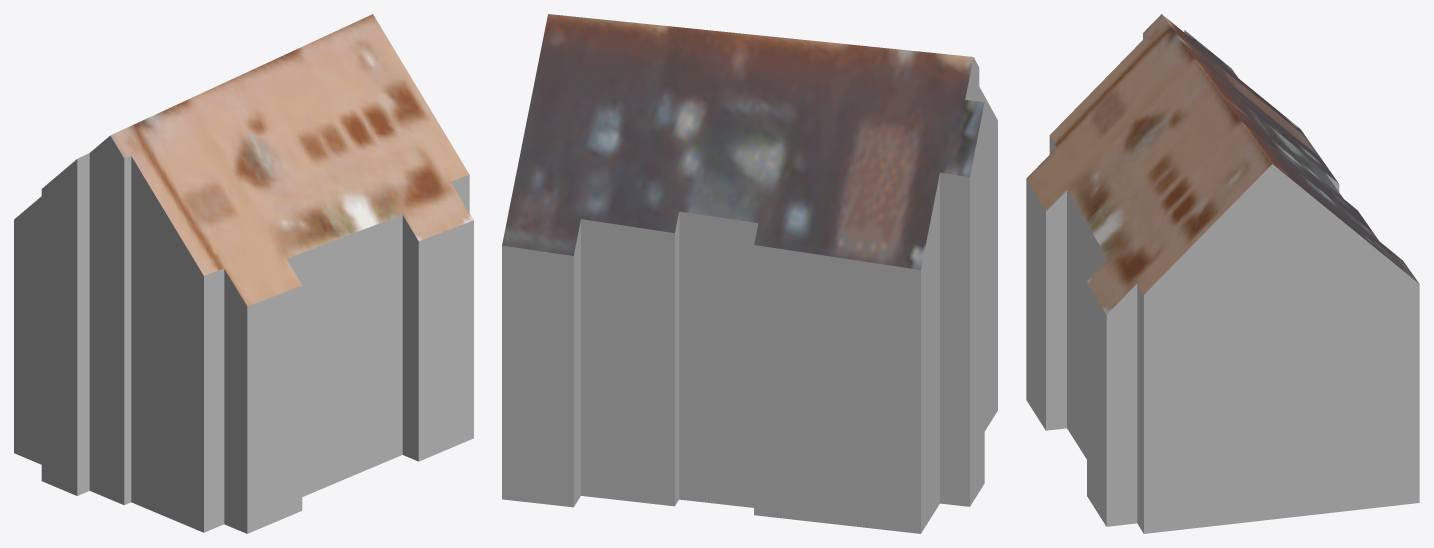
The model's file is DEBW_0010007TvkU.gltf.
3 renders of one model, left to right at view 1: azimuth 30°, elevation 25°; view 2: azimuth 150°, elevation 25°; view 3: azimuth 270°, elevation 25°, orthographic. The views are drawn at different scales.
Visible parts, largest first — view 1: Z_UP; view 2: Z_UP; view 3: Z_UP.
Part boxes in pixels (x1,y1,x2,y2): Z_UP: (14,14,473,533); Z_UP: (502,14,997,533); Z_UP: (1026,14,1419,533).
Size of the model in its own units: 22.1 by 20.17 by 20.23.
Materials: 2 (1 with a texture image).
